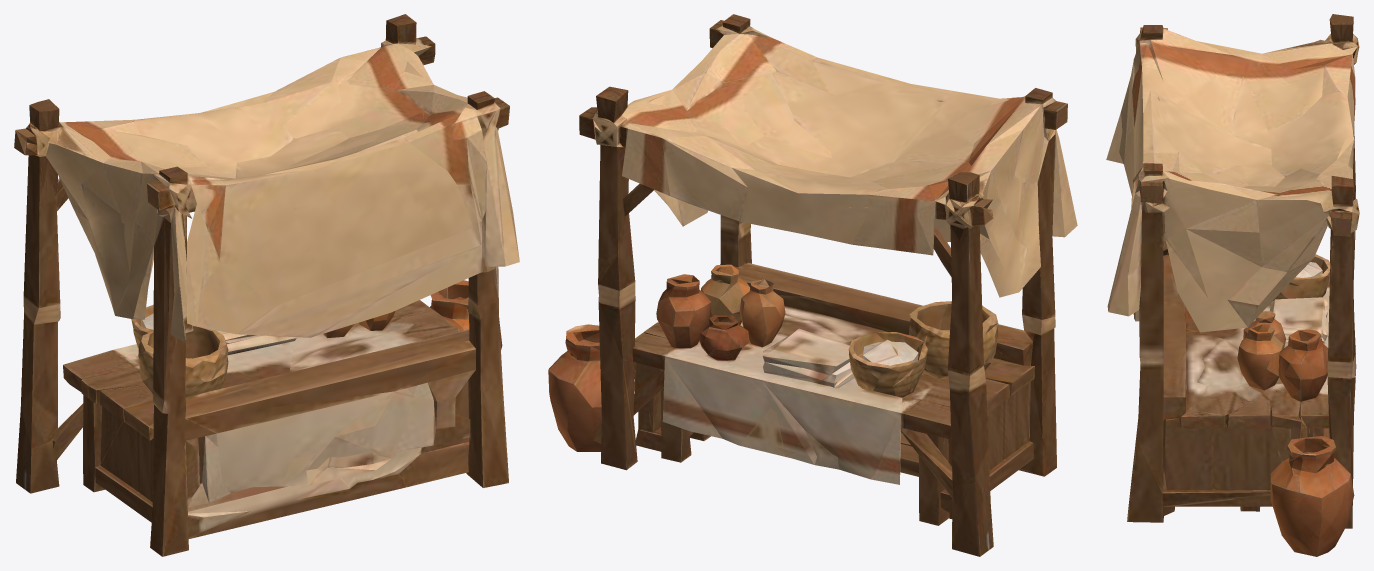
File: egypt-market-stall.glb
The picture shows the model from 3 angles, left to right: view 1: azimuth 30°, elevation 25°; view 2: azimuth 150°, elevation 25°; view 3: azimuth 270°, elevation 25°; orthographic projection. The views are drawn at different scales.
Size of the model in its own units: 1.9 by 1.51 by 0.9852.
1 material, 1 textured.
